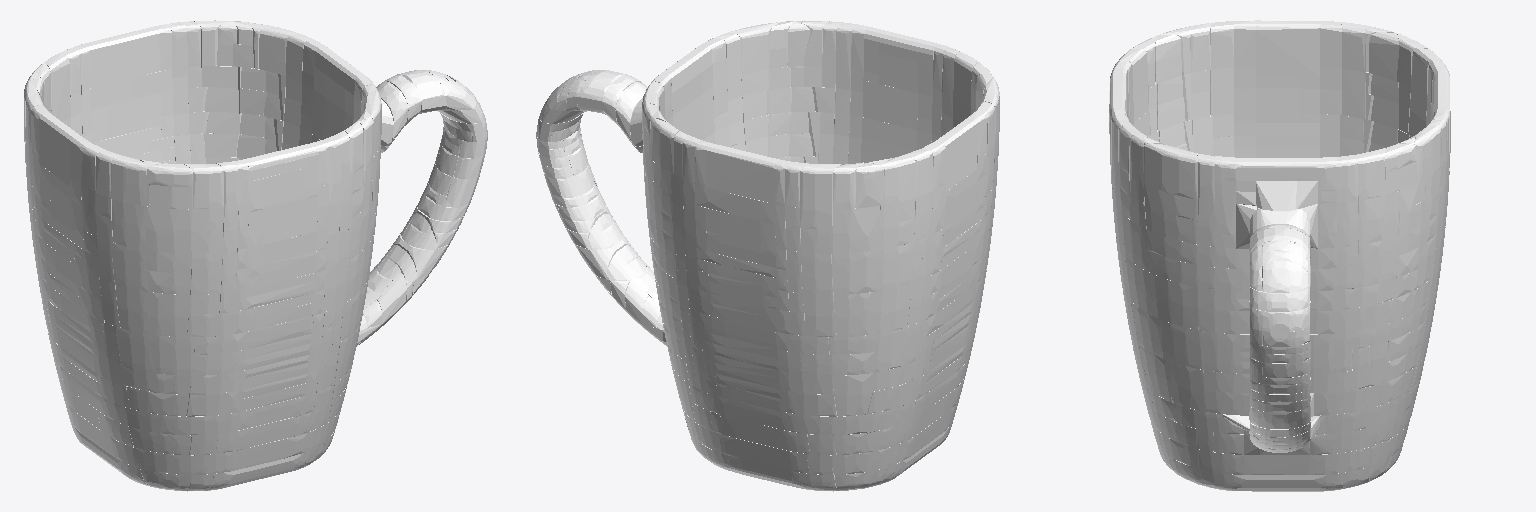
The robot description file, URDF, robot "mug1.urdf":
<?xml version="1.0" ?>
<robot name="mug1.urdf">
  <link name="baseLink">
    <contact>
    	<friction_anchor/>
    	<lateral_friction value="0.5"/>
        <rolling_friction value="0.005"/>
        <spinning_friction value="0.005"/>
    </contact>
    <inertial>
      <origin rpy="0 0 0" xyz="0 0 0"/>
      <mass value="0.3"/>
      <inertia ixx="0.00000016370" ixy="0.00000000002" ixz="-0.00000000695" iyy="0.00000020266" iyz="0.00000000001" izz="0.00000017603"/>
    </inertial>
    <visual>
      <origin rpy="1.5707 0 0" xyz="0 0 0"/>
      <geometry>
	  <mesh filename="mug1_decomp.obj" scale="1 1 1"/>
      </geometry>
       <material name="white">
          <color rgba="1 1 1 1"/>
      </material>
    </visual>
    <collision>
      <origin rpy="1.5707 0 0" xyz="0 0 0"/>
      <geometry>
	 <mesh filename="mug1_decomp.obj" scale="1 1 1"/>
      </geometry>
    </collision>
  </link>
</robot>

<!-- 
0.00000016370 0.00000000002 -0.00000000695
0.00000000002 0.00000020266 0.00000000001
-0.00000000695 0.00000000001 0.00000017603
-->

--- What the picture shows (computed from the rendered views, not written in the file) ---
Views: 3 orthographic renders of the robot side by side, from view 1: azimuth 30°, elevation 25°; view 2: azimuth 150°, elevation 25°; view 3: azimuth 270°, elevation 25°.
Robot: mug1.urdf — 1 links, 0 joints (none); root link baseLink; default pose: all joints at 0.
Links seen in each view (by area): view 1: baseLink; view 2: baseLink; view 3: baseLink.
Boxes of the visible links, x1=… form: baseLink: x1=24, y1=20, x2=487, y2=491; baseLink: x1=536, y1=20, x2=999, y2=491; baseLink: x1=1109, y1=20, x2=1450, y2=491.
Size in the robot's own frame: 0.1165 by 0.0799 by 0.092 metres.
Meshes: 1 distinct files referenced, 1 mesh visuals loaded (1 OBJ).